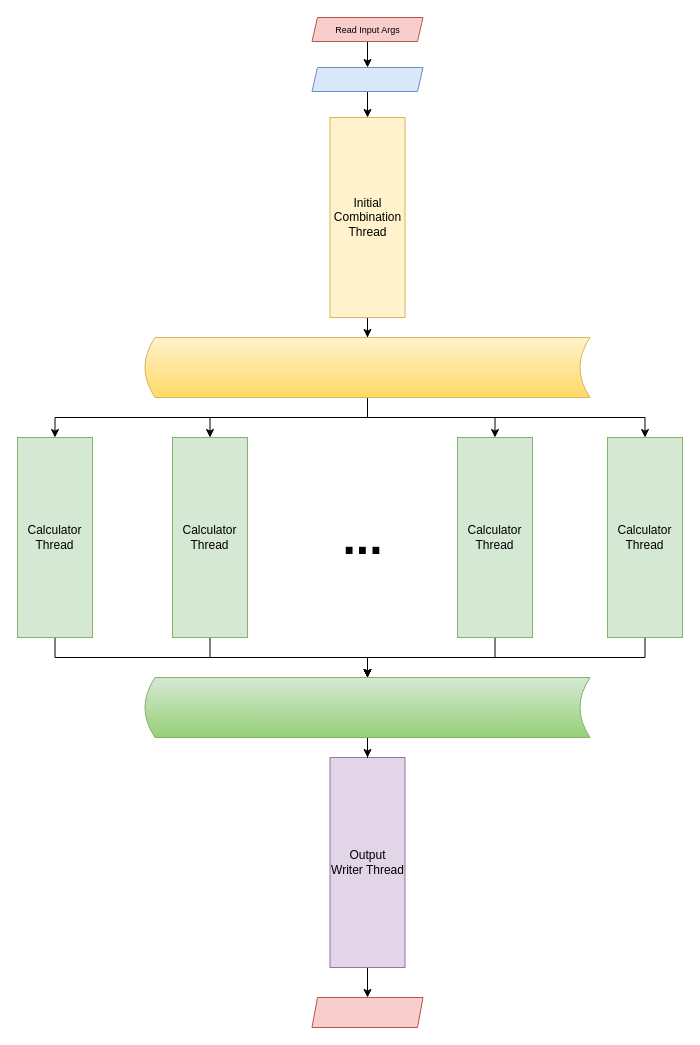
This 700x1045 diagram has some shape labels left out. Each missing label, with the centre of its shape:
Circular Buffer Containing Initial Centroids: (x=367, y=367)
Circular Buffer Containing Strings to Write Output file: (x=367, y=707)
End: (x=367, y=1012)
Read Binary File: (x=367, y=79)
